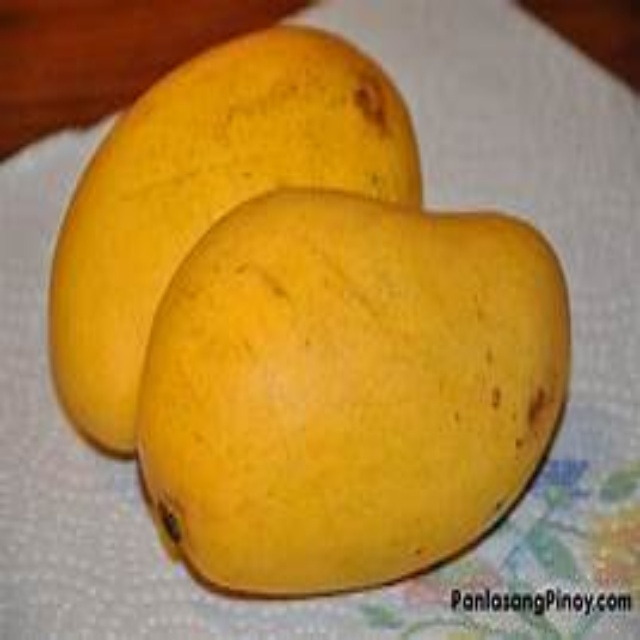mango: (143, 189, 572, 595), (51, 26, 428, 461)
